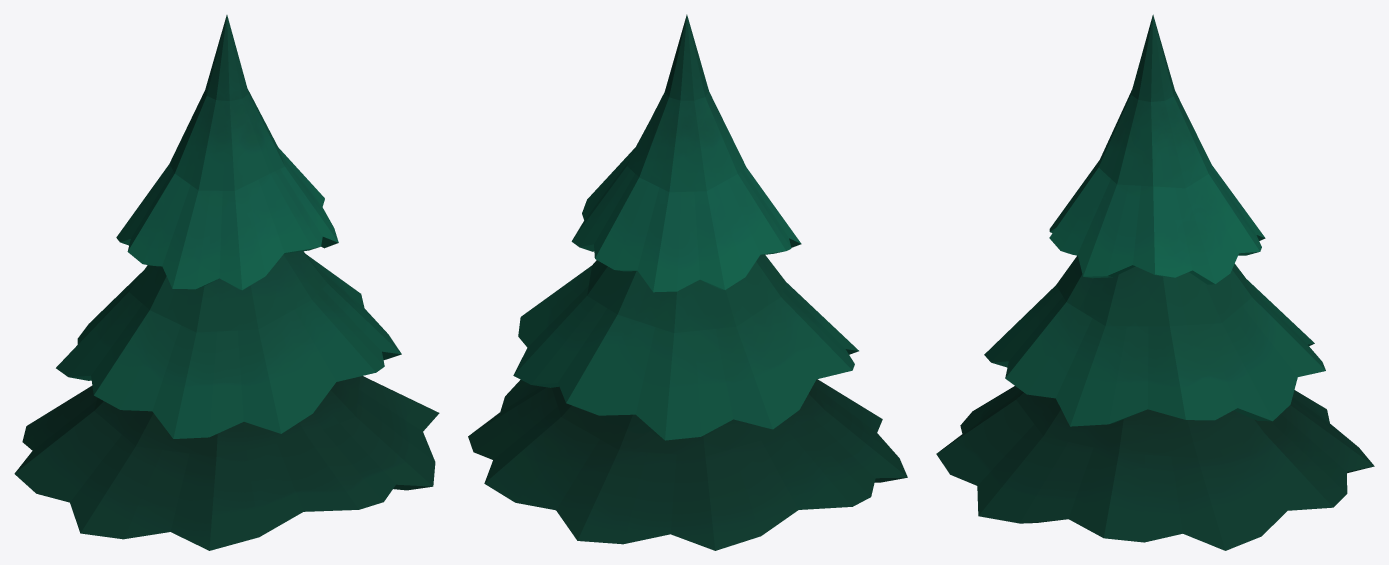
The model's file is BigSpruce.fbx.
3 views of the same model, side by side, from view 1: azimuth 30°, elevation 25°; view 2: azimuth 150°, elevation 25°; view 3: azimuth 270°, elevation 25° (orthographic).
Visible parts, largest first — view 1: Circle.008; view 2: Circle.008; view 3: Circle.008.
Part boxes in pixels (x1,y1,x2,y2): Circle.008: [14, 15, 439, 550]; Circle.008: [468, 14, 907, 550]; Circle.008: [936, 14, 1374, 550].
Bounding box in the file's own units: 319 × 405 × 318.
